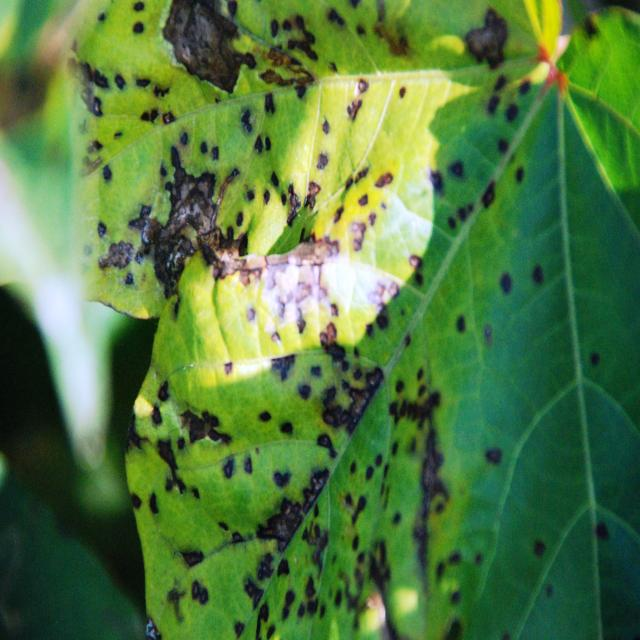Bacterial Blight: (174, 2, 528, 614)
